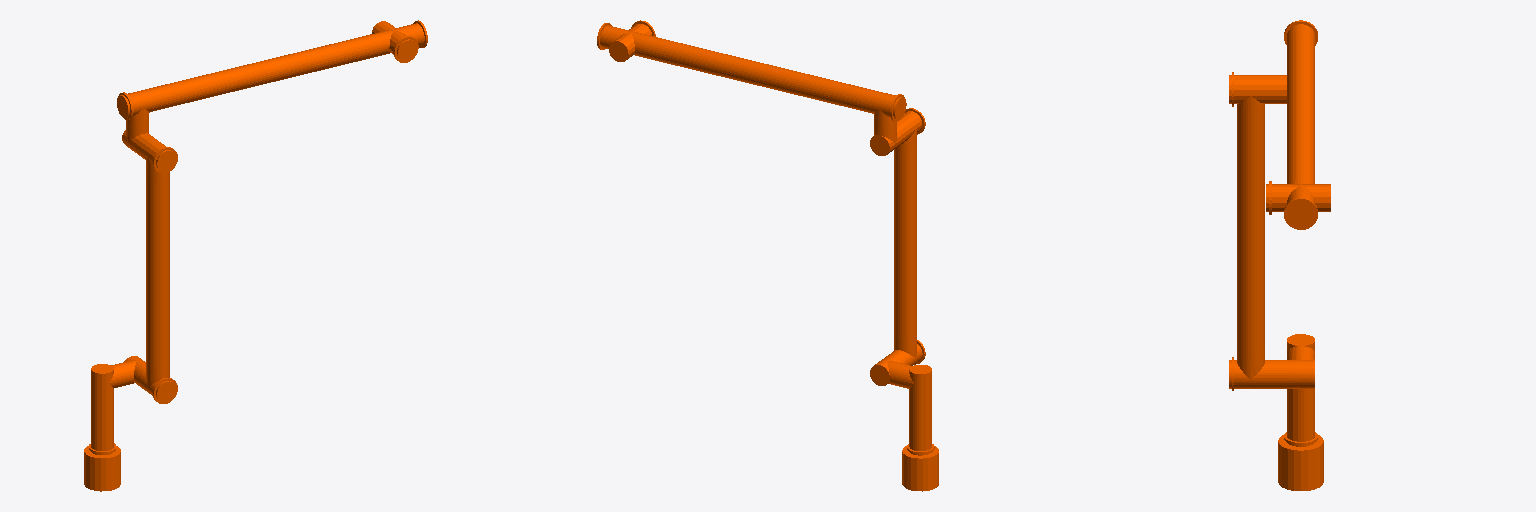
The robot description file, URDF, robot "fabribot":
<?xml version="1.0" ?>
<!-- =================================================================================== -->
<!-- |    This document was autogenerated by xacro from fabribot.xacro                 | -->
<!-- |    EDITING THIS FILE BY HAND IS NOT RECOMMENDED                                 | -->
<!-- =================================================================================== -->
<robot name="fabribot" xmlns:xacro="http://www.ros.org/wiki/xacro">
  <gazebo>
    <plugin filename="libgazebo_ros_control.so" name="gazebo_ros_control">
      <robotNamespace>/fabribot</robotNamespace>
    </plugin>
  </gazebo>
  <gazebo reference="base_link">
    <material>Gazebo/White</material>
  </gazebo>
  <gazebo reference="link_1">
    <material>Gazebo/White</material>
    <mu1>0.2</mu1>
    <mu2>0.2</mu2>
  </gazebo>
  <gazebo reference="link_2">
    <material>Gazebo/White</material>
    <mu1>0.2</mu1>
    <mu2>0.2</mu2>
  </gazebo>
  <gazebo reference="link_3">
    <material>Gazebo/White</material>
    <mu1>0.2</mu1>
    <mu2>0.2</mu2>
  </gazebo>
  <gazebo reference="link_4">
    <material>Gazebo/White</material>
    <mu1>0.2</mu1>
    <mu2>0.2</mu2>
  </gazebo>
  <gazebo reference="link_5">
    <material>Gazebo/White</material>
    <mu1>0.2</mu1>
    <mu2>0.2</mu2>
  </gazebo>
  <gazebo reference="link_6">
    <material>Gazebo/White</material>
    <mu1>0.2</mu1>
    <mu2>0.2</mu2>
  </gazebo>
  <link name="world"/>
  <link name="base_link">
    <visual>
      <origin rpy="0 0 0" xyz="0 0 0"/>
      <geometry>
        <mesh filename="package://fabribot_description/meshes/visual/base_link.stl"/>
      </geometry>
      <material name="abb_orange">
        <color rgba="1 0.43 0 1"/>
      </material>
    </visual>
    <collision>
      <origin rpy="0 0 0" xyz="0 0 0"/>
      <geometry>
        <mesh filename="package://fabribot_description/meshes/collision/base_link.stl"/>
      </geometry>
      <material name="yellow">
        <color rgba="0 1 1 1"/>
      </material>
    </collision>
    <inertial>
      <origin rpy="0 0 0" xyz="0 0 0.0785"/>
      <mass value="1"/>
      <inertia ixx="1.0" ixy="0.0" ixz="0.0" iyy="1.0" iyz="0.0" izz="1.0"/>
    </inertial>
  </link>
  <link name="link_1">
    <visual>
      <origin rpy="0 0 0" xyz="0 0 0"/>
      <geometry>
        <mesh filename="package://fabribot_description/meshes/visual/link_1.stl"/>
      </geometry>
      <material name="abb_orange"/>
    </visual>
    <collision>
      <origin rpy="0 0 0" xyz="0 0 0"/>
      <geometry>
        <mesh filename="package://fabribot_description/meshes/collision/link_1.stl"/>
      </geometry>
      <material name="yellow"/>
    </collision>
    <inertial>
      <origin rpy="0 0 0" xyz="0 0 0.351"/>
      <mass value="1"/>
      <inertia ixx="1.0" ixy="0.0" ixz="0.0" iyy="1.0" iyz="0.0" izz="1.0"/>
    </inertial>
  </link>
  <link name="link_2">
    <visual>
      <origin rpy="0 0 0" xyz="-0.175 0 -0.495"/>
      <geometry>
        <mesh filename="package://fabribot_description/meshes/visual/link_2.stl"/>
      </geometry>
      <material name="abb_orange"/>
    </visual>
    <collision>
      <origin rpy="0 0 0" xyz="-0.175 0 -0.495"/>
      <geometry>
        <mesh filename="package://fabribot_description/meshes/collision/link_2.stl"/>
      </geometry>
      <material name="yellow"/>
    </collision>
    <inertial>
      <origin rpy="0 0 0" xyz="0.175 -0.174234 1.0425"/>
      <mass value="1"/>
      <inertia ixx="1.0" ixy="0.0" ixz="0.0" iyy="1.0" iyz="0.0" izz="1.0"/>
    </inertial>
  </link>
  <link name="link_3">
    <visual>
      <origin rpy="0 0 0" xyz="-0.175 0 -1.59"/>
      <geometry>
        <mesh filename="package://fabribot_description/meshes/visual/link_3.stl"/>
      </geometry>
      <material name="abb_orange"/>
    </visual>
    <collision>
      <origin rpy="0 0 0" xyz="-0.175 0 -1.59"/>
      <geometry>
        <mesh filename="package://fabribot_description/meshes/collision/link_3.stl"/>
      </geometry>
      <material name="yellow"/>
    </collision>
    <inertial>
      <origin rpy="0 0 0" xyz="0.175 -0.101182 1.59"/>
      <mass value="1"/>
      <inertia ixx="1.0" ixy="0.0" ixz="0.0" iyy="1.0" iyz="0.0" izz="1.0"/>
    </inertial>
  </link>
  <link name="link_4">
    <visual>
      <origin rpy="0 0 0" xyz="-0.507 0 -1.765"/>
      <geometry>
        <mesh filename="package://fabribot_description/meshes/visual/link_4.stl"/>
      </geometry>
      <material name="abb_orange"/>
    </visual>
    <collision>
      <origin rpy="0 0 0" xyz="-0.507 0 -1.765"/>
      <geometry>
        <mesh filename="package://fabribot_description/meshes/collision/link_4.stl"/>
      </geometry>
      <material name="yellow"/>
    </collision>
    <inertial>
      <origin rpy="0 0 0" xyz="0.747692 0 1.765"/>
      <mass value="1"/>
      <inertia ixx="1.0" ixy="0.0" ixz="0.0" iyy="1.0" iyz="0.0" izz="1.0"/>
    </inertial>
  </link>
  <link name="link_5">
    <visual>
      <origin rpy="0 0 0" xyz="-1.446 0 -1.765"/>
      <geometry>
        <mesh filename="package://fabribot_description/meshes/visual/link_5.stl"/>
      </geometry>
      <material name="abb_orange"/>
    </visual>
    <collision>
      <origin rpy="0 0 0" xyz="-1.446 0 -1.765"/>
      <geometry>
        <mesh filename="package://fabribot_description/meshes/collision/link_5.stl"/>
      </geometry>
      <material name="yellow"/>
    </collision>
    <inertial>
      <origin rpy="0 0 0" xyz="1.446 0 1.765"/>
      <mass value="1"/>
      <inertia ixx="1.0" ixy="0.0" ixz="0.0" iyy="1.0" iyz="0.0" izz="1.0"/>
    </inertial>
  </link>
  <link name="link_6">
    <visual>
      <origin rpy="0 0 0" xyz="-1.581 0 -1.765"/>
      <geometry>
        <mesh filename="package://fabribot_description/meshes/visual/link_6.stl"/>
      </geometry>
      <material name="abb_orange"/>
    </visual>
    <collision>
      <origin rpy="0 0 0" xyz="-1.581 0 -1.765"/>
      <geometry>
        <mesh filename="package://fabribot_description/meshes/collision/link_6.stl"/>
      </geometry>
      <material name="yellow"/>
    </collision>
    <inertial>
      <origin rpy="0 0 0" xyz="1.576 0 1.765"/>
      <mass value="1"/>
      <inertia ixx="1.0" ixy="0.0" ixz="0.0" iyy="1.0" iyz="0.0" izz="1.0"/>
    </inertial>
  </link>
  <link name="tool0"/>
  <joint name="fixed" type="fixed">
    <!-- ============================== fixing base link to world -->
    <parent link="world"/>
    <child link="base_link"/>
  </joint>
  <joint name="joint_1" type="revolute">
    <!-- ============================== joint 1 -->
    <origin rpy="0 0 0" xyz="0 0 0"/>
    <parent link="base_link"/>
    <child link="link_1"/>
    <axis xyz="0 0 1"/>
    <limit effort="0" lower="-3.1416" upper="3.1416" velocity="2.618"/>
    <calibration falling="0" rising="0"/>
    <dynamics damping="0.7" friction="0"/>
  </joint>
  <joint name="joint_2" type="revolute">
    <!-- ============================== joint 2 -->
    <origin rpy="0 0 0" xyz="0.175 0 0.495"/>
    <parent link="link_1"/>
    <child link="link_2"/>
    <axis xyz="0 1 0"/>
    <limit effort="0" lower="-1.7453" upper="1.9199" velocity="2.618"/>
    <calibration falling="0" rising="0"/>
    <dynamics damping="0.7" friction="0"/>
  </joint>
  <joint name="joint_3" type="revolute">
    <!-- ============================== joint 3 -->
    <origin rpy="0 0 0" xyz="0 0 1.095"/>
    <parent link="link_2"/>
    <child link="link_3"/>
    <axis xyz="0 1 0"/>
    <limit effort="0" lower="-1.0472" upper="1.1345" velocity="2.618"/>
    <calibration falling="0" rising="0"/>
    <dynamics damping="0.7" friction="0"/>
  </joint>
  <joint name="joint_4" type="revolute">
    <!-- ============================== joint 4 -->
    <origin rpy="0 0 0" xyz="0.332 0 0.175"/>
    <parent link="link_3"/>
    <child link="link_4"/>
    <axis xyz="1 0 0"/>
    <limit effort="0" lower="-3.49" upper="3.49" velocity="6.2832"/>
    <calibration falling="0" rising="0"/>
    <dynamics damping="0.7" friction="0"/>
  </joint>
  <joint name="joint_5" type="revolute">
    <!-- ============================== joint 5 -->
    <origin rpy="0 0 0" xyz="0.939 0 0"/>
    <parent link="link_4"/>
    <child link="link_5"/>
    <axis xyz="0 1 0"/>
    <limit effort="0" lower="-2.0944" upper="2.0944" velocity="6.2832"/>
    <calibration falling="0" rising="0"/>
    <dynamics damping="0.7" friction="0"/>
  </joint>
  <joint name="joint_6" type="revolute">
    <!-- ============================== joint 6 -->
    <origin rpy="0 0 0" xyz="0.135 0 0"/>
    <parent link="link_5"/>
    <child link="link_6"/>
    <axis xyz="1 0 0"/>
    <limit effort="0" lower="-6.9813" upper="6.9813" velocity="7.854"/>
    <calibration falling="0" rising="0"/>
    <dynamics damping="0.7" friction="0"/>
  </joint>
  <joint name="joint_6-tool0" type="fixed">
    <!-- ============================== tool 0 -->
    <parent link="link_6"/>
    <child link="tool0"/>
    <origin rpy="0 0 0" xyz="0 0 0"/>
  </joint>
</robot>

--- Render facts (derived) ---
3 views of the same robot in one strip: view 1: azimuth 30°, elevation 25°; view 2: azimuth 150°, elevation 25°; view 3: azimuth 270°, elevation 25° (orthographic).
Robot: fabribot — 9 links, 8 joints (6 revolute, 2 fixed); root link world; default pose: all joints at 0.
Visible links, largest first — view 1: link_4, link_2, link_1, link_3, base_link, link_5; view 2: link_4, link_2, link_1, link_3, base_link, link_5; view 3: link_2, link_4, link_1, base_link, link_3, link_5, link_6.
Link boxes in pixels (x1,y1,x2,y2): link_4: (117,30,393,119); link_2: (124,158,177,403); link_1: (89,360,136,454); link_3: (122,108,177,173); base_link: (84,446,120,491); link_5: (372,21,424,62); link_4: (631,32,906,121); link_2: (870,130,925,385); link_1: (887,361,934,455); link_3: (870,108,925,155); base_link: (902,446,938,491); link_5: (600,20,655,61); link_2: (1229,96,1314,390); link_4: (1284,20,1317,184); link_1: (1284,334,1317,446); base_link: (1278,435,1323,490); link_3: (1229,72,1286,106); link_5: (1266,181,1330,214); link_6: (1284,198,1317,229).
Size in the robot's own frame: 1.66 by 0.3579 by 1.82 metres.
7 mesh visuals loaded from 7 distinct referenced files (7 binary STL).